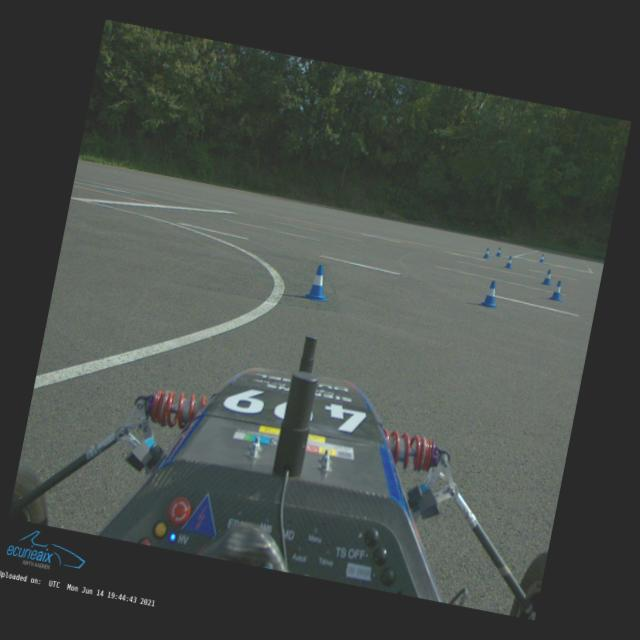blue_cone: (302, 263, 334, 303), (479, 279, 501, 309), (548, 280, 566, 302), (541, 268, 554, 286), (504, 255, 514, 269), (495, 247, 503, 257), (483, 248, 491, 258), (539, 254, 546, 263)
